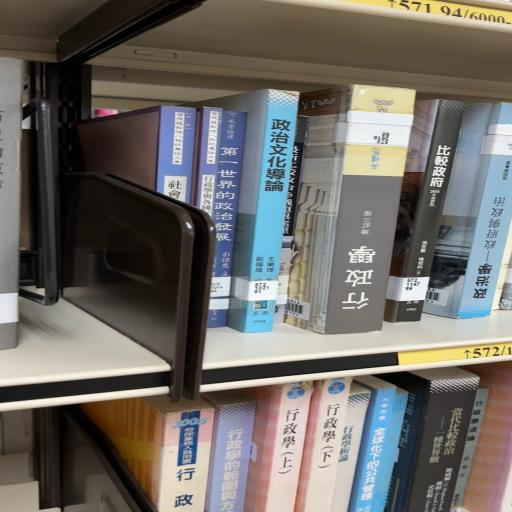reverse: (286, 85, 416, 335), (424, 104, 512, 319)
